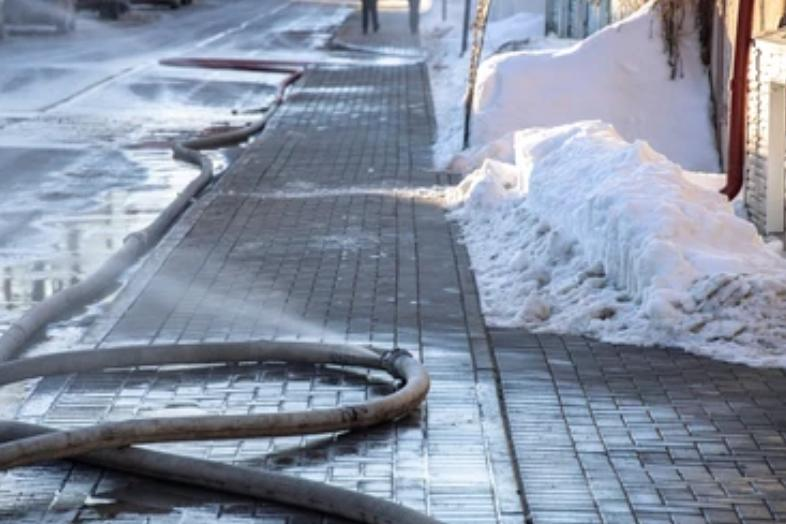pipe burst: (187, 280, 387, 362)
water accumulation: (0, 32, 422, 335), (0, 344, 705, 524)
